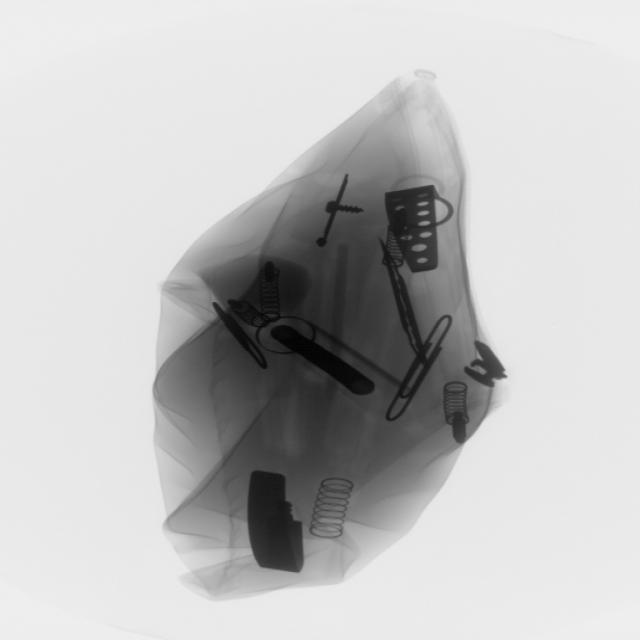BLADE: (378, 233, 435, 370)
GUN: (271, 325, 364, 401)
SCREW: (320, 171, 360, 252)
